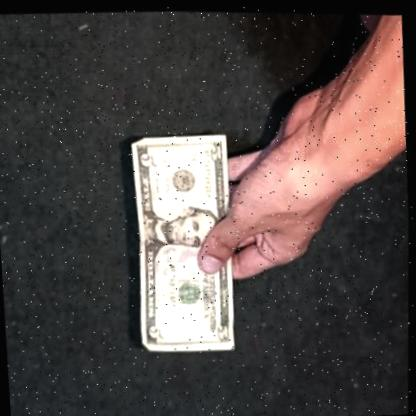dollar_front: (119, 123, 254, 361)
